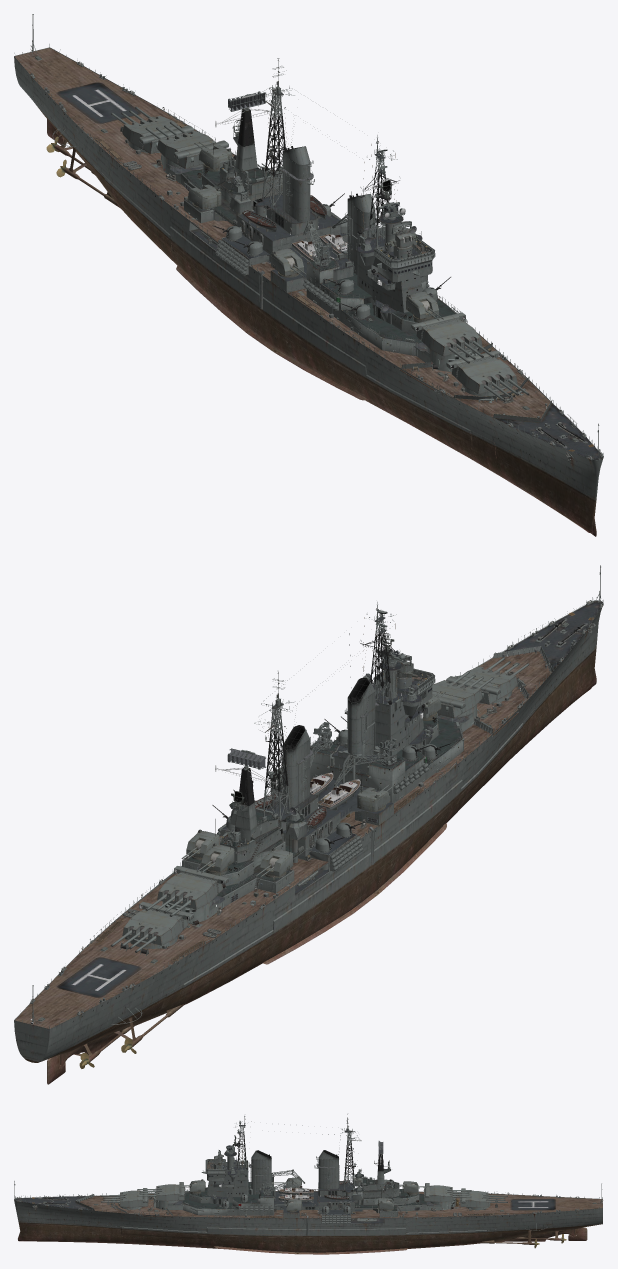
The model's file is british_super_heavy_cruiser_leviathan-maximum-compressed.glb.
3 renders of one model, top to bottom at view 1: azimuth 30°, elevation 25°; view 2: azimuth 150°, elevation 25°; view 3: azimuth 270°, elevation 25°, orthographic. The views are drawn at different scales.
Visible parts, largest first — view 1: bsc025_goliath_1949_midback_82_b26aaeb3_a09c_4ab2_8955_4ee5e, bsc025_goliath_1949_bow_35_575d1e0a_9c42_4d16_bfa7_c1dc05982, bsc025_goliath_1949_midfront_292_91a6c73e_7461_45d3_b6f7_133, bsc025_goliath_1949_stern_1_eebefc9f_fba2_4178_a69e_3fb47028, object 499, bsc033_edgar_1975_midfront_247_011a0340_988b_4e64_acba_dd127, bgm134_9_2in_mark_x_quadruple_037_fd84f696_1a03_43c1_bb08_88, bgm134_9_2in_mark_x_quadruple_036, bsc025_goliath_1949_midback_82_7e4901fa_c2a8_453b_9952_f98c3, bgm134_9_2in_mark_x_quadruple_039_fd84f696_1a03_43c1_bb08_88, object 405, bgm134_9_2in_mark_x_quadruple_038 (+9 smaller); view 2: bsc025_goliath_1949_midback_82_b26aaeb3_a09c_4ab2_8955_4ee5e, bsc025_goliath_1949_stern_1_eebefc9f_fba2_4178_a69e_3fb47028, bsc025_goliath_1949_bow_35_575d1e0a_9c42_4d16_bfa7_c1dc05982, bsc025_goliath_1949_midfront_292_91a6c73e_7461_45d3_b6f7_133, object 499, bsc033_edgar_1975_midfront_247_011a0340_988b_4e64_acba_dd127, bgm134_9_2in_mark_x_quadruple_039_fd84f696_1a03_43c1_bb08_88, bgm134_9_2in_mark_x_quadruple_038, bsc025_goliath_1949_midback_82_7e4901fa_c2a8_453b_9952_f98c3, bgm134_9_2in_mark_x_quadruple_036, bgm134_9_2in_mark_x_quadruple_037_fd84f696_1a03_43c1_bb08_88, object 517 (+11 smaller); view 3: bsc025_goliath_1949_midback_82_b26aaeb3_a09c_4ab2_8955_4ee5e, bsc025_goliath_1949_bow_35_575d1e0a_9c42_4d16_bfa7_c1dc05982, bsc025_goliath_1949_midfront_292_91a6c73e_7461_45d3_b6f7_133, bsc025_goliath_1949_stern_1_eebefc9f_fba2_4178_a69e_3fb47028, object 499, bsc033_edgar_1975_midfront_247_011a0340_988b_4e64_acba_dd127, bsc025_goliath_1949_midback_82_7e4901fa_c2a8_453b_9952_f98c3, bgm134_9_2in_mark_x_quadruple_037_fd84f696_1a03_43c1_bb08_88, bgm134_9_2in_mark_x_quadruple_039_fd84f696_1a03_43c1_bb08_88, bgm134_9_2in_mark_x_quadruple_038, bgm134_9_2in_mark_x_quadruple_036, bsc033_edgar_1975_midback_122_4796278b_56c4_4fd3_964d_17b322 (+17 smaller).
Part boxes in pixels (x1,y1,x2,y2): bsc025_goliath_1949_midback_82_b26aaeb3_a09c_4ab2_8955_4ee5e: (74, 86, 347, 352); bsc025_goliath_1949_bow_35_575d1e0a_9c42_4d16_bfa7_c1dc05982: (418, 358, 603, 536); bsc025_goliath_1949_midfront_292_91a6c73e_7461_45d3_b6f7_133: (272, 241, 501, 440); bsc025_goliath_1949_stern_1_eebefc9f_fba2_4178_a69e_3fb47028: (14, 14, 163, 179); object 499: (333, 135, 432, 324); bsc033_edgar_1975_midfront_247_011a0340_988b_4e64_acba_dd127: (306, 257, 445, 336); bgm134_9_2in_mark_x_quadruple_037_fd84f696_1a03_43c1_bb08_88: (411, 312, 494, 363); bgm134_9_2in_mark_x_quadruple_036: (446, 350, 529, 401); bsc025_goliath_1949_midback_82_7e4901fa_c2a8_453b_9952_f98c3: (282, 146, 313, 222); bgm134_9_2in_mark_x_quadruple_039_fd84f696_1a03_43c1_bb08_88: (145, 121, 228, 168); object 405: (237, 209, 340, 261); bgm134_9_2in_mark_x_quadruple_038: (111, 106, 194, 153); bsc025_goliath_1949_midback_82_b26aaeb3_a09c_4ab2_8955_4ee5e: (74, 698, 382, 1035); bsc025_goliath_1949_stern_1_eebefc9f_fba2_4178_a69e_3fb47028: (14, 951, 157, 1084); bsc025_goliath_1949_bow_35_575d1e0a_9c42_4d16_bfa7_c1dc05982: (454, 566, 603, 781); bsc025_goliath_1949_midfront_292_91a6c73e_7461_45d3_b6f7_133: (318, 712, 518, 893); object 499: (332, 602, 432, 773); bsc033_edgar_1975_midfront_247_011a0340_988b_4e64_acba_dd127: (310, 738, 446, 803); bgm134_9_2in_mark_x_quadruple_039_fd84f696_1a03_43c1_bb08_88: (145, 866, 228, 916); bgm134_9_2in_mark_x_quadruple_038: (110, 901, 193, 952); bsc025_goliath_1949_midback_82_7e4901fa_c2a8_453b_9952_f98c3: (282, 725, 310, 807); bgm134_9_2in_mark_x_quadruple_036: (446, 657, 529, 704); bgm134_9_2in_mark_x_quadruple_037_fd84f696_1a03_43c1_bb08_88: (432, 671, 493, 718); object 517: (219, 826, 280, 863); bsc025_goliath_1949_midback_82_b26aaeb3_a09c_4ab2_8955_4ee5e: (284, 1128, 521, 1254); bsc025_goliath_1949_bow_35_575d1e0a_9c42_4d16_bfa7_c1dc05982: (14, 1181, 157, 1245); bsc025_goliath_1949_midfront_292_91a6c73e_7461_45d3_b6f7_133: (142, 1191, 318, 1254); bsc025_goliath_1949_stern_1_eebefc9f_fba2_4178_a69e_3fb47028: (508, 1183, 602, 1244); object 499: (208, 1116, 271, 1204); bsc033_edgar_1975_midfront_247_011a0340_988b_4e64_acba_dd127: (217, 1176, 273, 1215); bsc025_goliath_1949_midback_82_7e4901fa_c2a8_453b_9952_f98c3: (315, 1150, 339, 1188); bgm134_9_2in_mark_x_quadruple_037_fd84f696_1a03_43c1_bb08_88: (137, 1182, 185, 1200); bgm134_9_2in_mark_x_quadruple_039_fd84f696_1a03_43c1_bb08_88: (424, 1183, 471, 1201); bgm134_9_2in_mark_x_quadruple_038: (460, 1188, 507, 1207); bgm134_9_2in_mark_x_quadruple_036: (101, 1188, 148, 1207); bsc033_edgar_1975_midback_122_4796278b_56c4_4fd3_964d_17b322: (355, 1177, 426, 1213).
Bounding box in the file's own units: 20.27 × 36 × 151.
84 materials, 81 textured.
